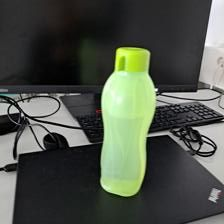bottle: (96, 44, 158, 196)
